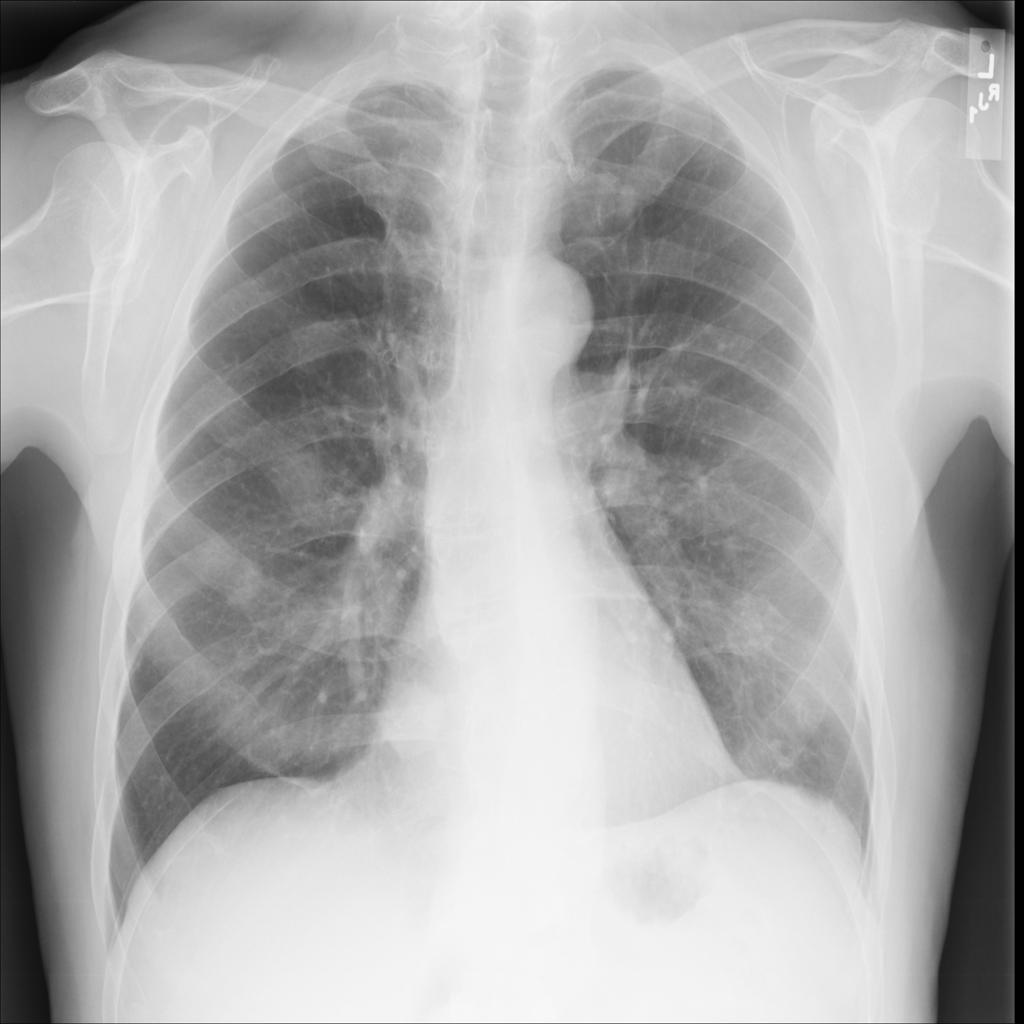nodule: (175, 510, 289, 620), (250, 421, 356, 535), (367, 663, 467, 772), (269, 290, 366, 398)
